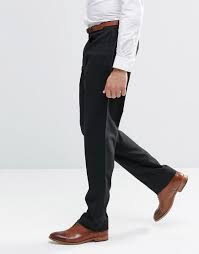F_belt: (80, 16, 122, 34)
F_dress pants: (77, 32, 174, 229)
